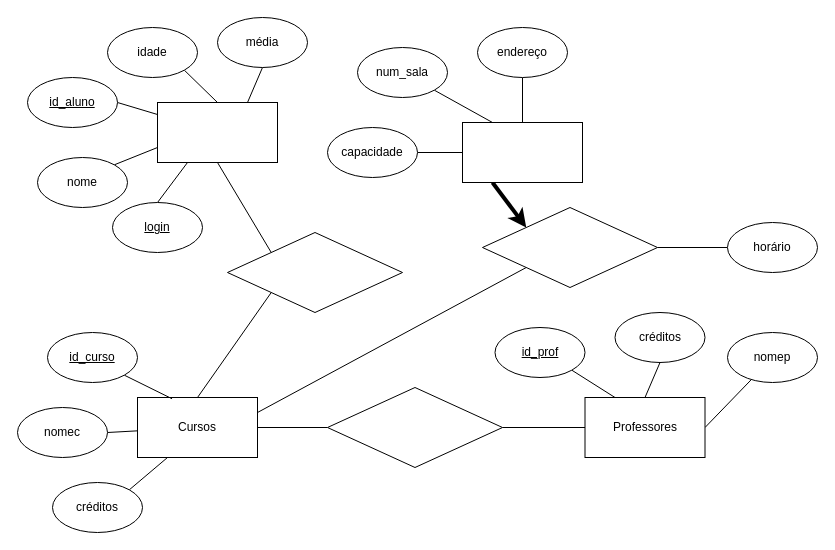
This 835x550 diagram has some shape labels left out. The shapes that lost their labels are listed below. From the top down, each one's box as (x1, y1, x2, y2) in pixels, then its label:
(156, 102, 278, 162): Alunos
(462, 122, 582, 182): Salas
(482, 206, 658, 288): Aula
(226, 232, 402, 312): Matriculado
(326, 386, 502, 468): Ministra
